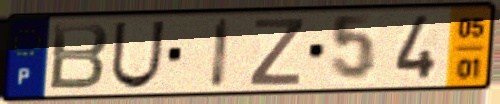4: (392, 12, 439, 84)
5: (330, 12, 381, 87)
B: (46, 21, 112, 93)
I: (208, 16, 234, 91)
U: (107, 19, 168, 92)
Z: (246, 17, 308, 88)
